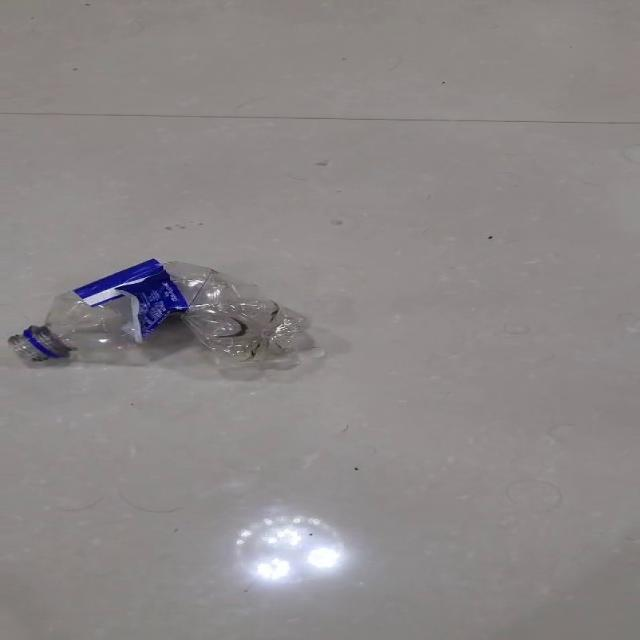plastic: (8, 257, 313, 369)
